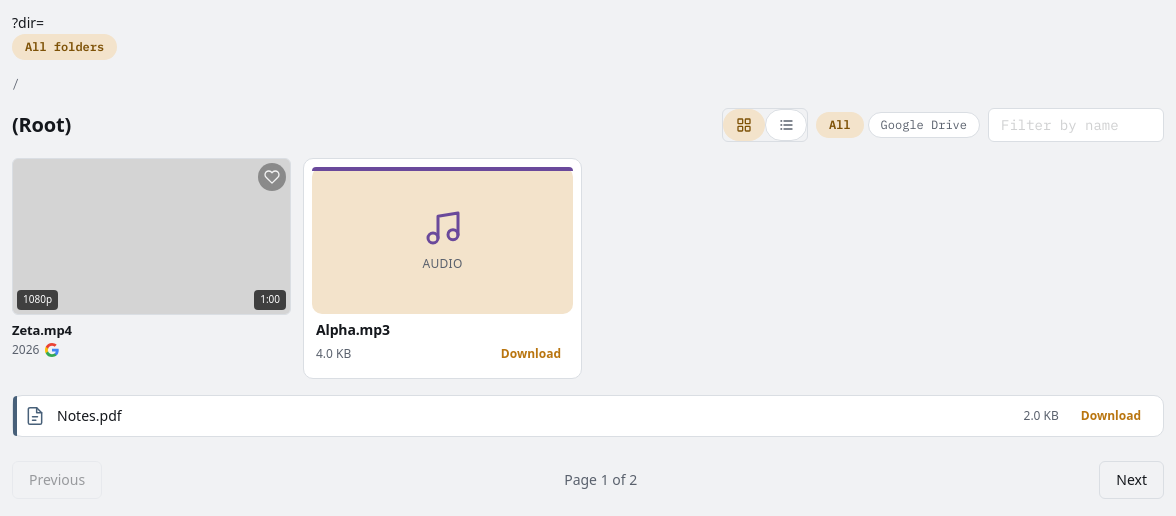
Scenario: FolderOrganizer › paginates with Previous/Next
expect the heading "Zeta.mp4" is shown: met, box [12,321,72,339]
Click the button "Next".
click(1132, 480)  # box [1099,461,1164,499]
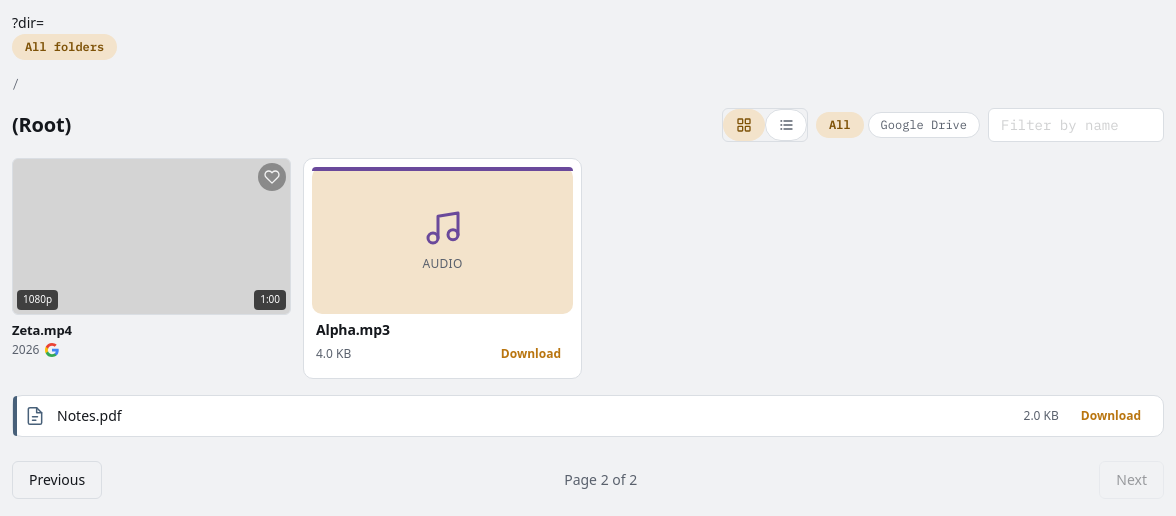
expect the text "Page 2 of 2" is shown: met, box [564,470,637,490]
